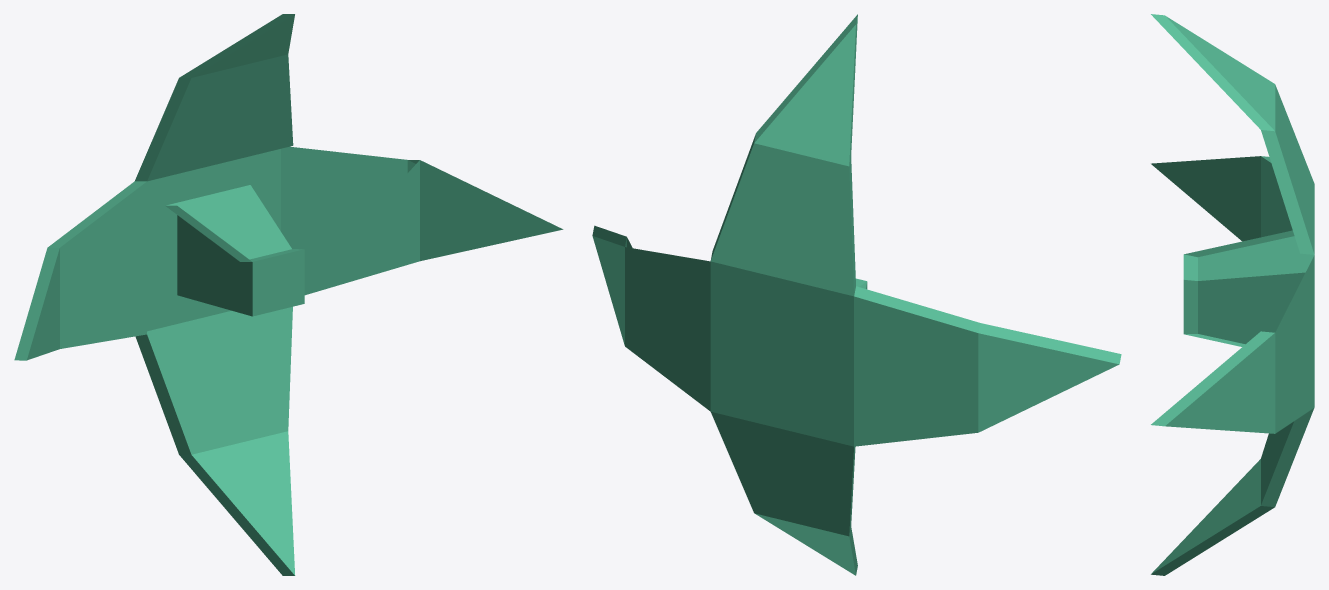
The model's file is tail.obj.
3 views of the same model, side by side, from view 1: azimuth 30°, elevation 25°; view 2: azimuth 150°, elevation 25°; view 3: azimuth 270°, elevation 25° (orthographic).
Visible parts, largest first — view 1: tomato.002; view 2: tomato.002; view 3: tomato.002.
Boxes of the visible parts, <box> form: tomato.002: <box>14,14,563,575</box>; tomato.002: <box>592,14,1121,575</box>; tomato.002: <box>1151,14,1314,575</box>.
Bounding box in the file's own units: 0.0879 × 0.0876 × 0.0231.
